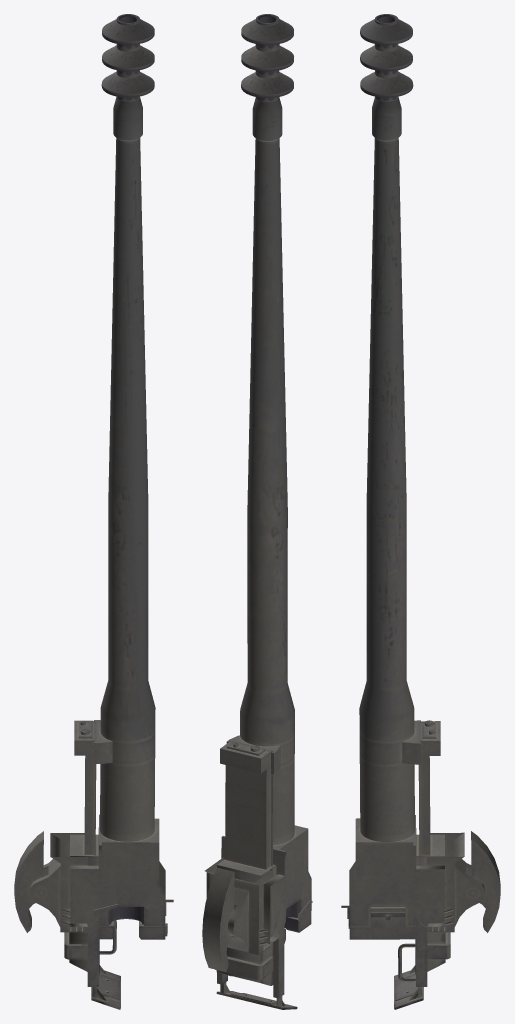
Rendered from Gun_01.glb.
3 views of the same model, side by side, from view 1: azimuth 90°, elevation 25°; view 2: azimuth 150°, elevation 25°; view 3: azimuth 270°, elevation 25° (orthographic).
Parts seen in each view (by area): view 1: set_0_group_0; view 2: set_0_group_0; view 3: set_0_group_0.
Boxes of the visible parts, box(x1,y1,x2,y2) form: set_0_group_0: box(14, 14, 173, 1009); set_0_group_0: box(202, 14, 312, 1009); set_0_group_0: box(341, 14, 500, 1009).
Size of the model in its own units: 0.6996 by 7.94 by 1.18.
Materials: 1 (1 with a texture image).
